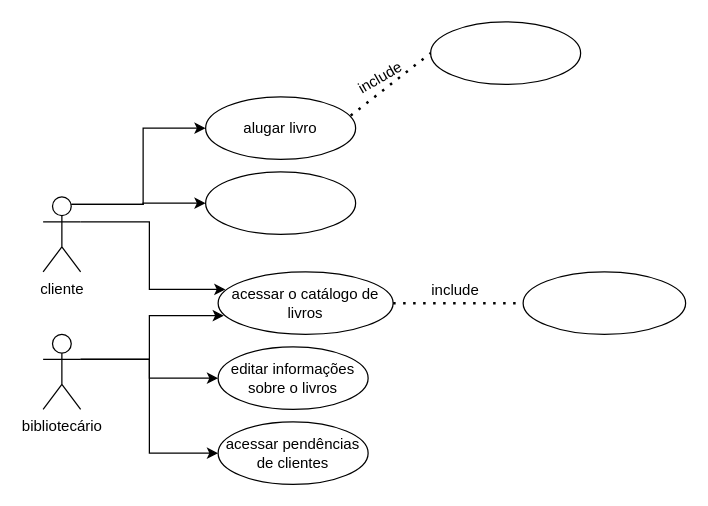
This 708x506 diagram has some shape labels left out. Here are the shapes that lost their labels. From the top down, the centre of each, then its label:
At (x=505, y=52): "devolver livro".
At (x=280, y=202): "comprar livro".
At (x=604, y=302): "obter informações sobre os livros".
